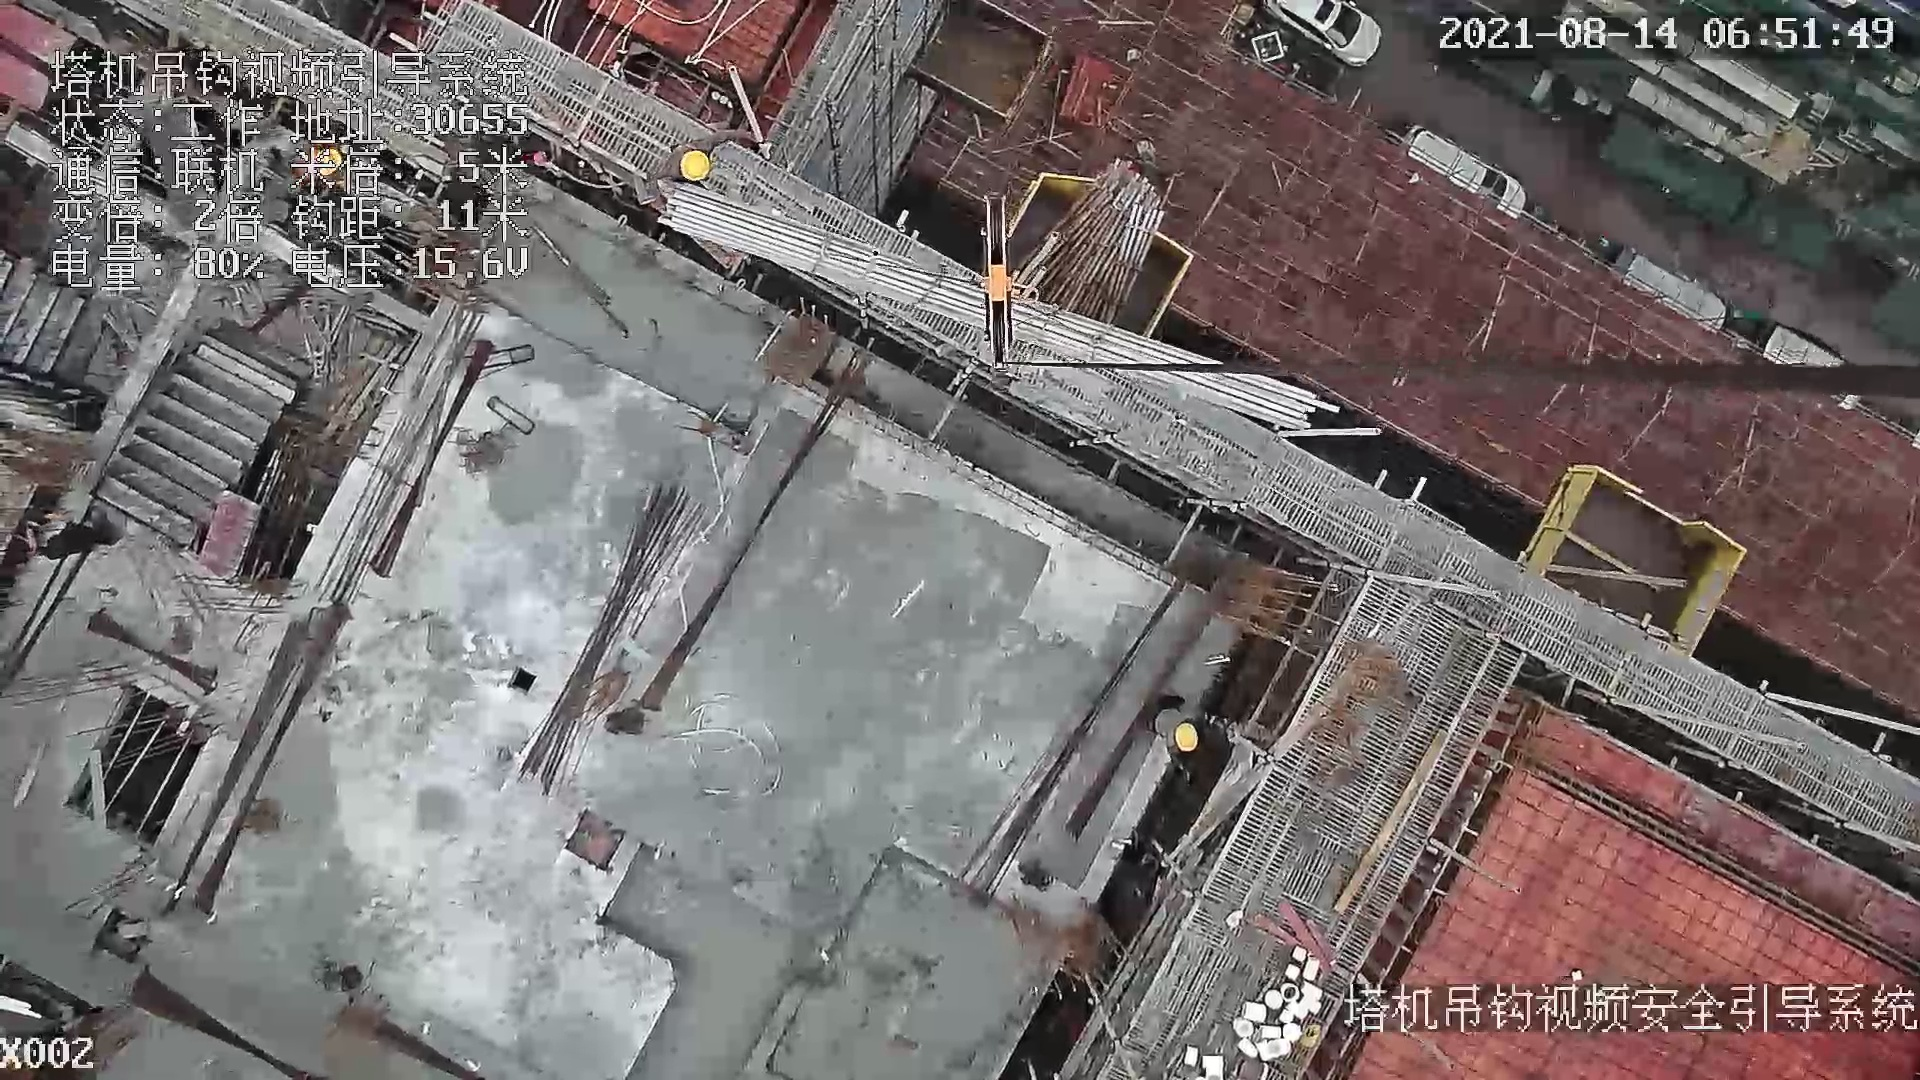helmet: (679, 150, 709, 182), (1174, 723, 1199, 753)
hook: (988, 190, 1031, 372)
person: (1132, 686, 1259, 783), (653, 132, 782, 203), (28, 512, 117, 561)
rebar: (655, 182, 1342, 437), (516, 479, 706, 797)
scaffold: (1011, 160, 1165, 324)
